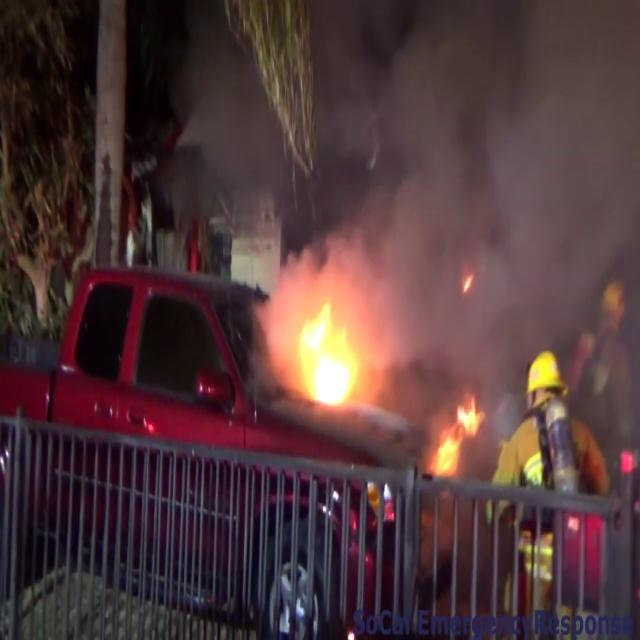Fire: (287, 281, 373, 419), (431, 390, 483, 482)
Smoke: (299, 0, 640, 323)
